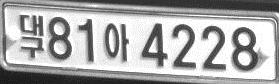1: (75, 18, 101, 63)
2: (172, 23, 196, 68), (202, 25, 226, 70)
4: (142, 22, 167, 66)
8: (231, 26, 258, 70), (47, 16, 72, 60)
대구_V: (19, 14, 44, 58)
아: (103, 22, 129, 62)
